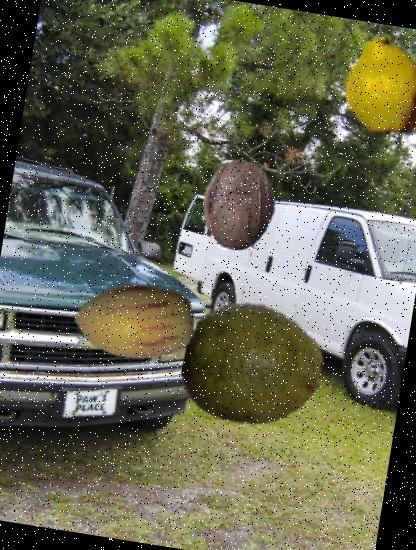Cocos: (188, 154, 292, 258)
Guava: (174, 286, 334, 446)
Pepino: (66, 252, 204, 390)
Quince: (326, 30, 416, 147)
